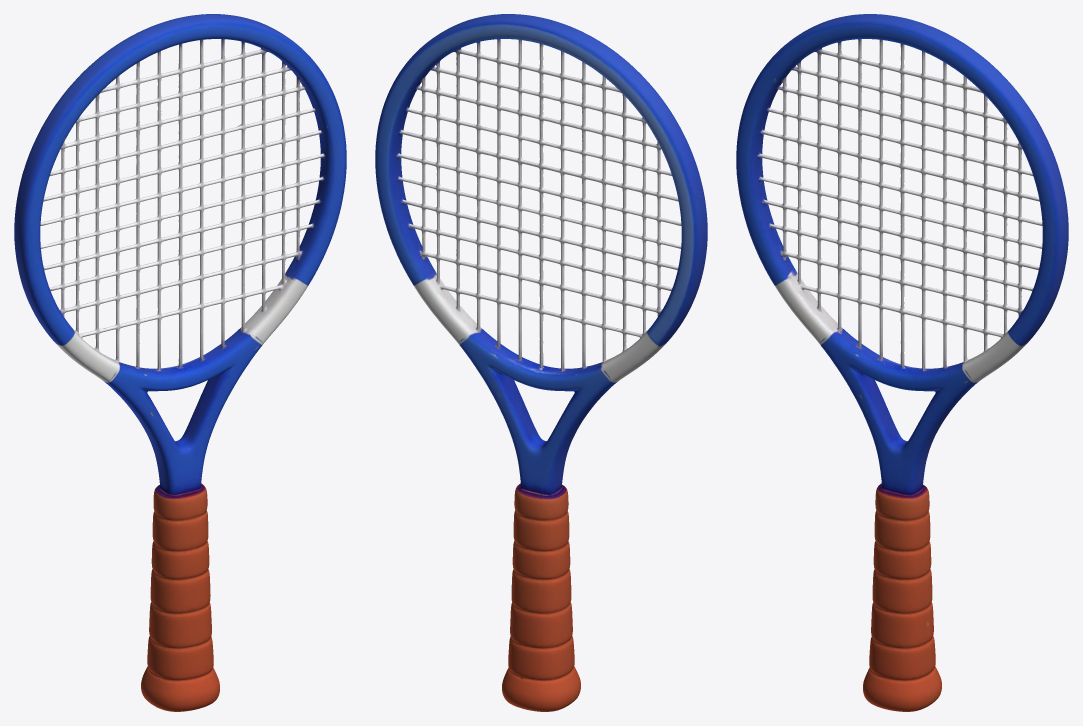
The model's file is racket.glb.
3 views of the same model, side by side, from view 1: azimuth 30°, elevation 25°; view 2: azimuth 150°, elevation 25°; view 3: azimuth 330°, elevation 25° (orthographic).
Size of the model in its own units: 0.951 by 1.9 by 0.1946.
1 material, 1 textured.
